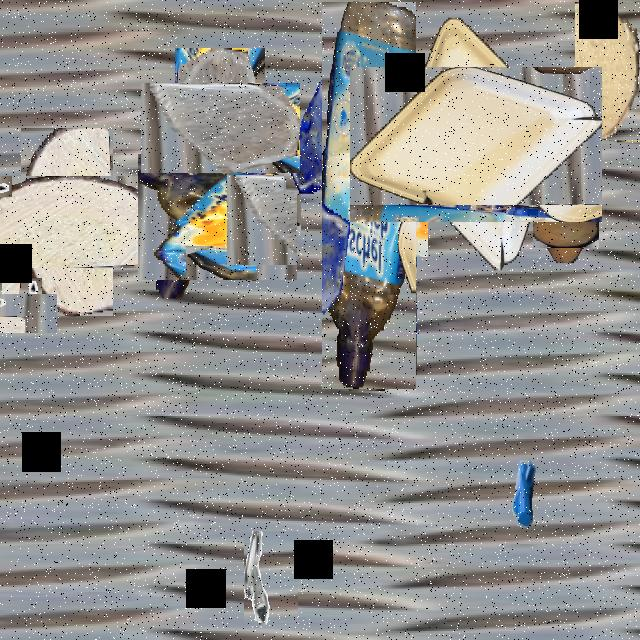glass: (158, 66, 282, 190), (284, 75, 350, 192)
metal: (333, 186, 417, 269), (494, 438, 552, 540), (244, 532, 298, 628), (238, 186, 294, 241), (0, 285, 49, 340)
plastic: (374, 42, 578, 246), (322, 2, 416, 389), (146, 146, 288, 288)
wood: (0, 151, 137, 292), (575, 2, 640, 140), (540, 203, 592, 256)
